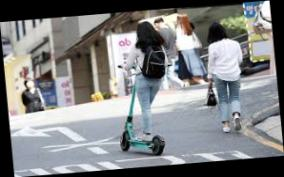nonhelmet: (106, 20, 177, 160)
